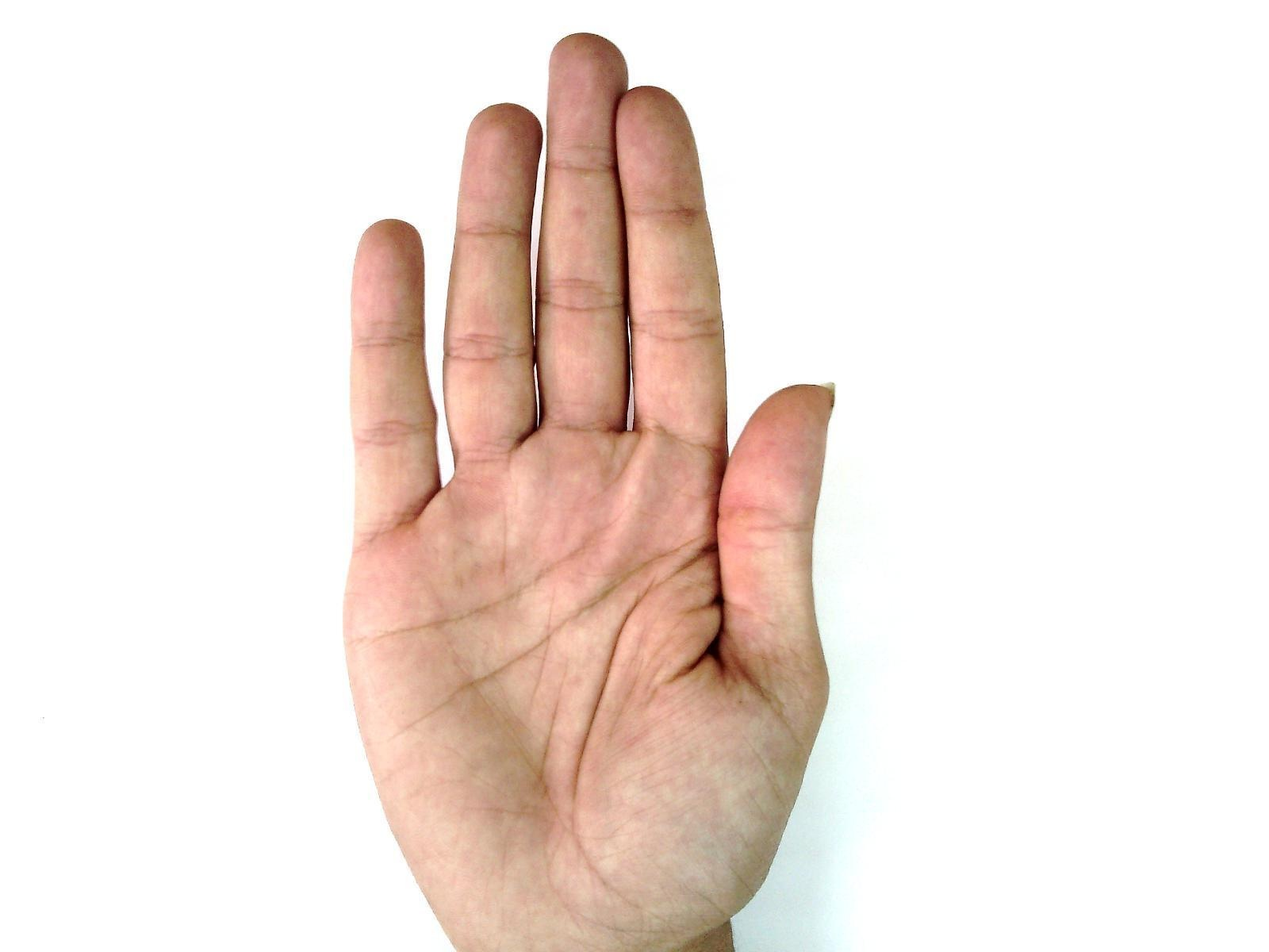open_palm: (339, 32, 839, 950)
